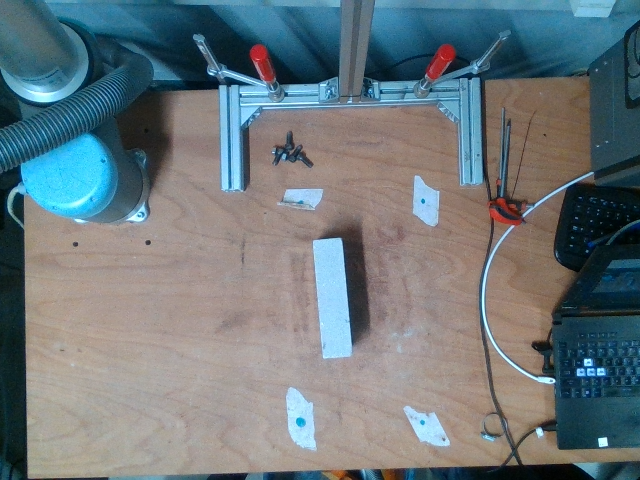brick-side: (313, 237, 354, 359)
